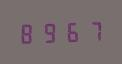eight: (18, 21, 38, 44)
nine: (39, 20, 59, 44)
seven: (81, 19, 101, 42)
six: (60, 20, 80, 43)
